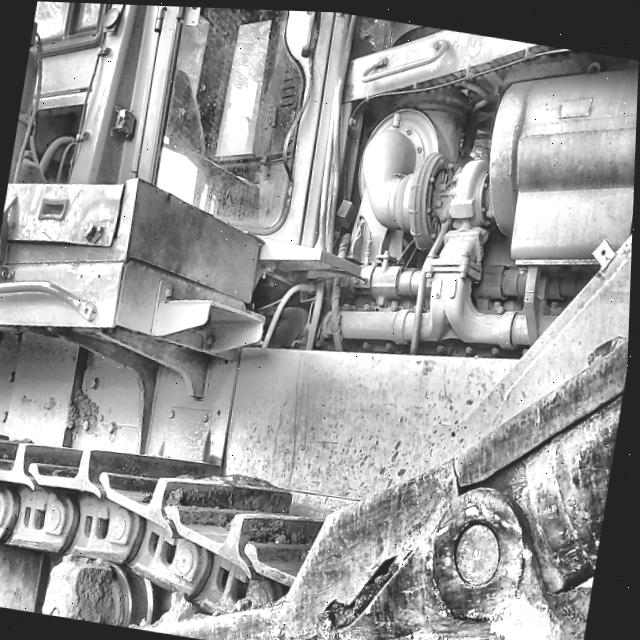buldozerpayloadergrader: (0, 1, 639, 640)
